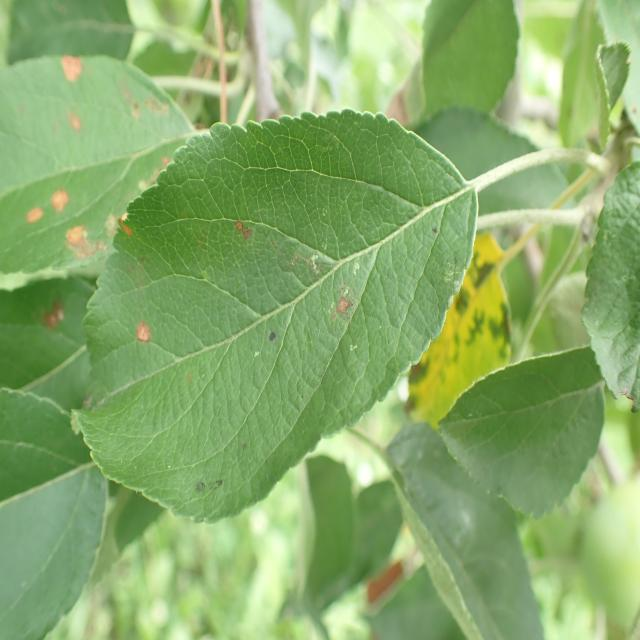Black Rot: (58, 220, 103, 276), (321, 280, 358, 345), (226, 199, 262, 258), (44, 182, 90, 222), (59, 45, 91, 98), (126, 314, 162, 361), (20, 201, 47, 242), (60, 106, 93, 137)
